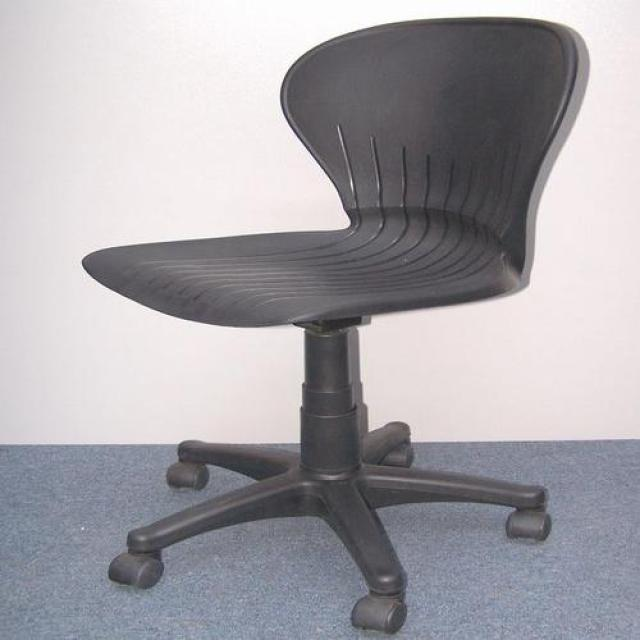swivelchair: (82, 17, 593, 635)
